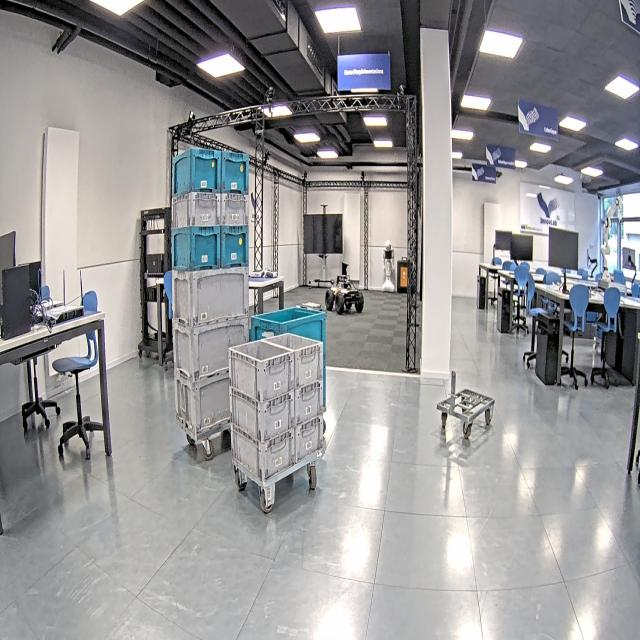Box4G: (172, 317, 250, 381), (172, 265, 249, 326), (174, 366, 231, 429)
Box8G: (230, 386, 300, 446), (228, 338, 292, 402), (233, 426, 299, 481), (262, 332, 323, 384), (172, 194, 220, 230), (292, 412, 326, 462), (292, 377, 325, 427), (218, 194, 252, 227)
BoxB4: (172, 223, 252, 270), (251, 307, 325, 348)
BoxB8: (171, 146, 222, 194), (221, 149, 249, 195)
